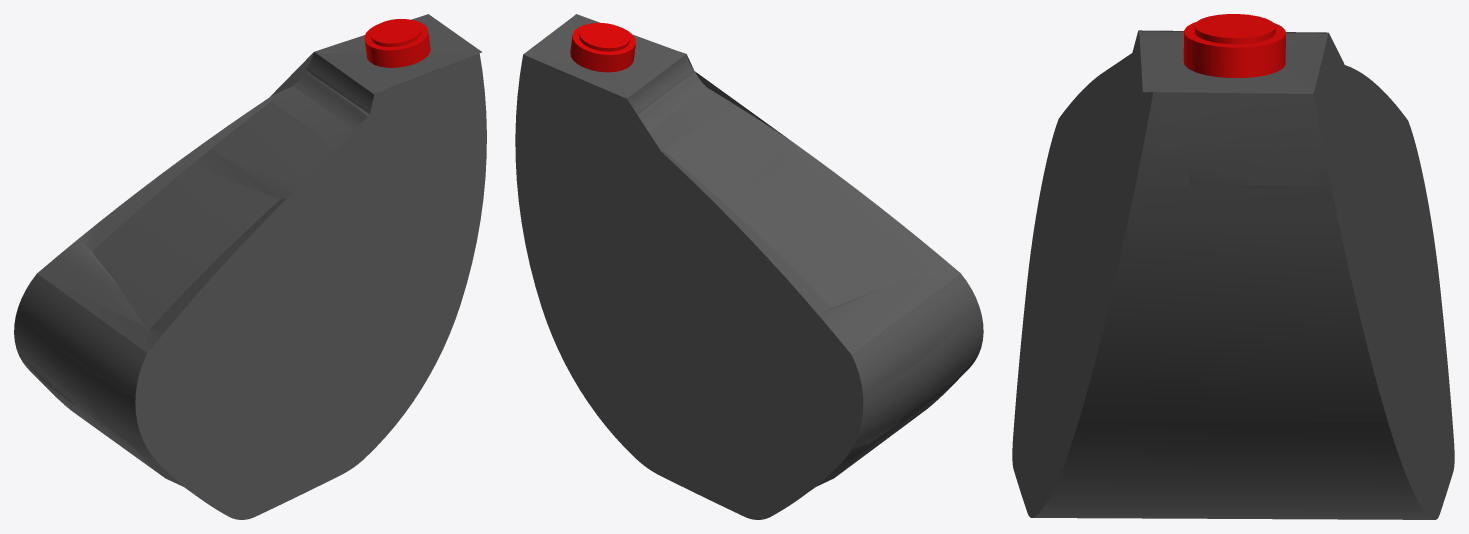
The model's file is 2- Gasolina.fbx.
3 renders of one model, left to right at view 1: azimuth 30°, elevation 25°; view 2: azimuth 150°, elevation 25°; view 3: azimuth 270°, elevation 25°, orthographic. The views are drawn at different scales.
Visible parts, largest first — view 1: KTM:Mesh21Group17Model; view 2: KTM:Mesh21Group17Model; view 3: KTM:Mesh21Group17Model.
Part boxes in pixels (box(x1,y1,x2,y2)): KTM:Mesh21Group17Model: box(14, 14, 486, 519); KTM:Mesh21Group17Model: box(515, 14, 983, 519); KTM:Mesh21Group17Model: box(1012, 14, 1454, 519).
Bounding box in the file's own units: 1.88 × 1.83 × 1.2.
